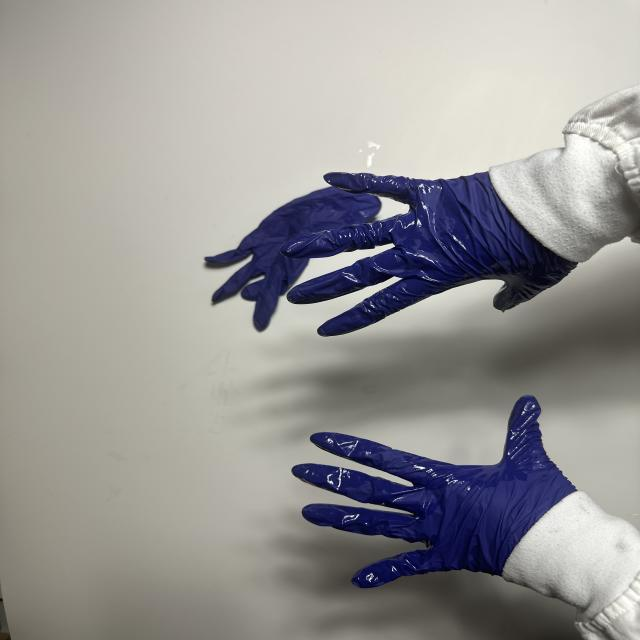gloves_contaminated: (293, 396, 576, 587), (283, 173, 577, 335)
